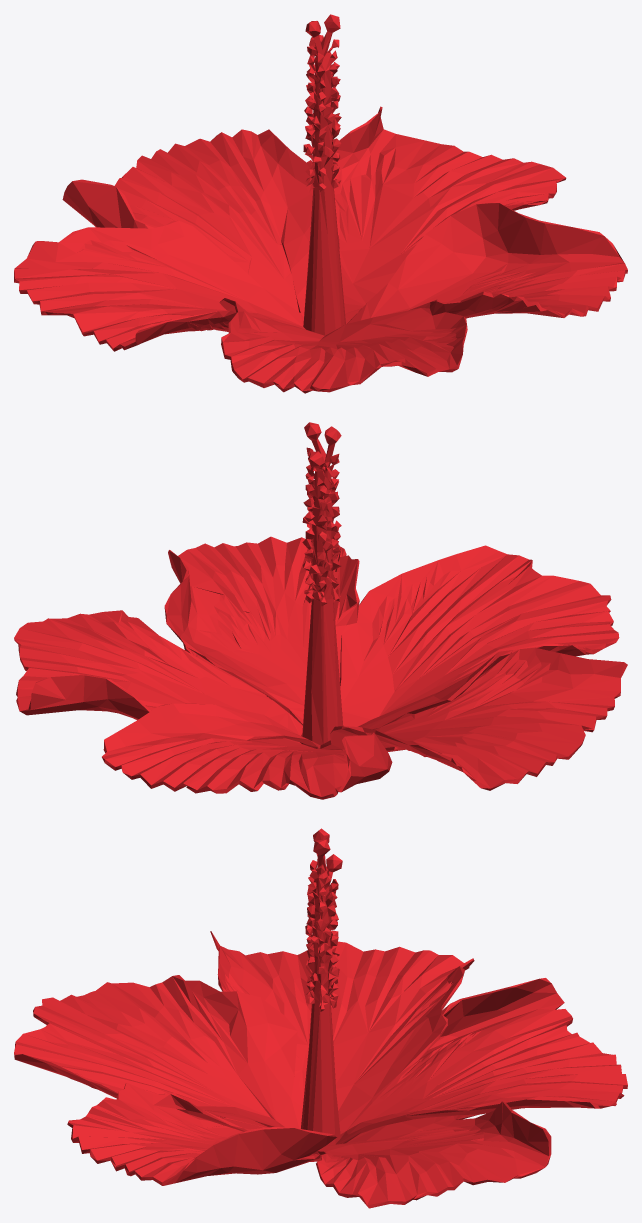
File: 25ArtFlor_hibisco_003 decimate wireframe COR.glb
3 renders of one model, top to bottom at view 1: azimuth 30°, elevation 25°; view 2: azimuth 150°, elevation 25°; view 3: azimuth 270°, elevation 25°, orthographic. The views are drawn at different scales.
Parts seen in each view (by area): view 1: 1782502358887 hibiscus; view 2: 1782502358887 hibiscus; view 3: 1782502358887 hibiscus.
Boxes of the visible parts, left/top/right/bottom form: 1782502358887 hibiscus: left=14, top=14, right=627, bottom=393; 1782502358887 hibiscus: left=14, top=422, right=627, bottom=799; 1782502358887 hibiscus: left=14, top=828, right=627, bottom=1208.
Size of the model in its own units: 4.86 by 2.81 by 4.85.
